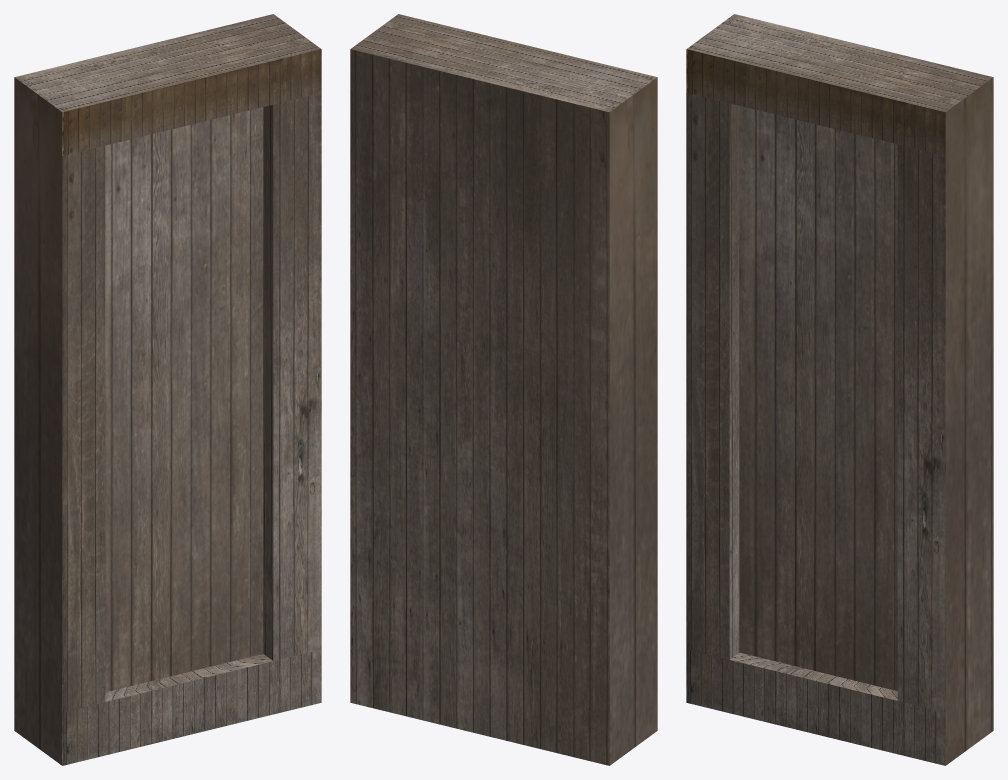
Rendered from Door_L_v2 1.fbx.
3 views of the same model, side by side, from view 1: azimuth 30°, elevation 25°; view 2: azimuth 150°, elevation 25°; view 3: azimuth 330°, elevation 25° (orthographic).
Parts seen in each view (by area): view 1: Door_L; view 2: Door_L; view 3: Door_L.
Part boxes in pixels (box(x1,y1,x2,y2)): Door_L: box(14, 14, 321, 765); Door_L: box(350, 14, 657, 765); Door_L: box(686, 14, 993, 765).
Size of the model in its own units: 78.82 by 190 by 25.27.
